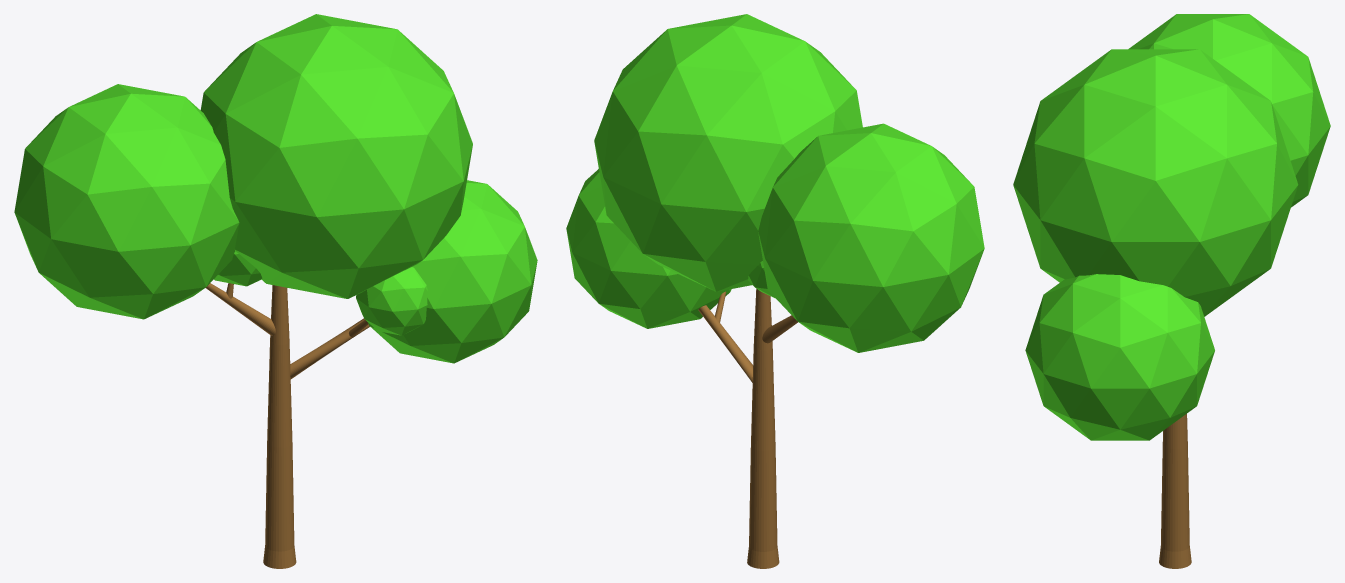
Rendered from Tree1.fbx.
The picture shows the model from 3 angles, left to right: view 1: azimuth 30°, elevation 25°; view 2: azimuth 150°, elevation 25°; view 3: azimuth 270°, elevation 25°; orthographic projection. The views are drawn at different scales.
Visible parts, largest first — view 1: Leaves; view 2: Leaves; view 3: Leaves.
Part boxes in pixels (bbox=[...]): Leaves: bbox=[14, 14, 537, 568]; Leaves: bbox=[566, 14, 984, 568]; Leaves: bbox=[1013, 14, 1330, 568].
Size of the model in its own units: 182 by 209 by 114.
